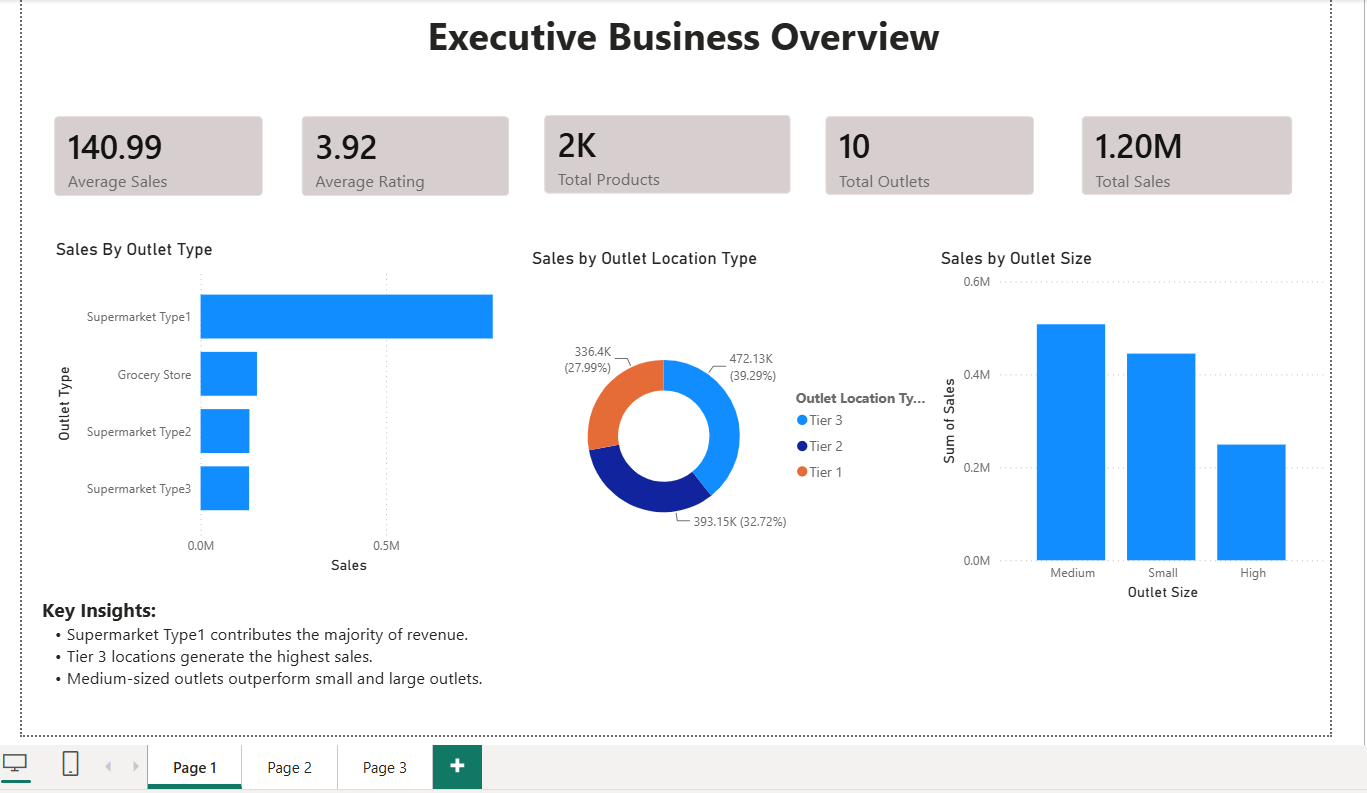

This screenshot's page, from the dashboard's own definition file:
{"tool":"powerbi","page":{"name":"Page 1","canvas":[1280,720],"ordinal":0},"visuals":[{"type":"cardVisual","fields":{"Data":["Sheet1.Average Sales"]},"box":[15.1,97.4,238.8,112.5],"z":0},{"type":"textbox","box":[15.1,5.5,1265.2,74.1],"z":1000},{"type":"cardVisual","fields":{"Data":["Sheet1.Average Rating"]},"box":[256.8,97.8,237.2,112.5],"z":2000},{"type":"cardVisual","fields":{"Data":["Sheet1.Total Products"]},"box":[494,96.6,275.1,111.3],"z":3000},{"type":"cardVisual","fields":{"Data":["Sheet1.Total Outlets"]},"box":[769.2,97.8,238.5,111.3],"z":4000},{"type":"cardVisual","fields":{"Data":["Sheet1.Total Sales"]},"box":[1019.8,97.8,240.9,111.3],"z":5000},{"type":"barChart","title":"Sales By Outlet Type","fields":{"Category":["Sheet1.Outlet Type"],"Y":["Sum(Sheet1.Sales)"]},"box":[28.1,234.8,456.1,332.6],"z":6000},{"type":"donutChart","title":"Sales by Outlet Location Type","fields":{"Category":["Sheet1.Outlet Location Type"],"Y":["Sum(Sheet1.Sales)"]},"box":[494,243.3,395,349.7],"z":7000},{"type":"clusteredColumnChart","title":"Sales by Outlet Size","fields":{"Category":["Sheet1.Outlet Size"],"Y":["Sum(Sheet1.Sales)"]},"box":[893.9,243.3,386.4,349.7],"z":8000},{"type":"textbox","box":[14.7,579.6,501.4,130.8],"z":9000}]}

Visuals, with their boxes on the page's 1280x720 design canvas (x1, y1, x2, y2). These are canvas units, not pixel positions in the 1367x793 screenshot, which may show the page scaled, cropped or inside an application window:
cardVisual - Sheet1.Average Sales: region(15, 97, 254, 210)
textbox: region(15, 6, 1280, 80)
cardVisual - Sheet1.Average Rating: region(257, 98, 494, 210)
cardVisual - Sheet1.Total Products: region(494, 97, 769, 208)
cardVisual - Sheet1.Total Outlets: region(769, 98, 1008, 209)
cardVisual - Sheet1.Total Sales: region(1020, 98, 1261, 209)
"Sales By Outlet Type" barChart: region(28, 235, 484, 567)
"Sales by Outlet Location Type" donutChart: region(494, 243, 889, 593)
"Sales by Outlet Size" clusteredColumnChart: region(894, 243, 1280, 593)
textbox: region(15, 580, 516, 710)
